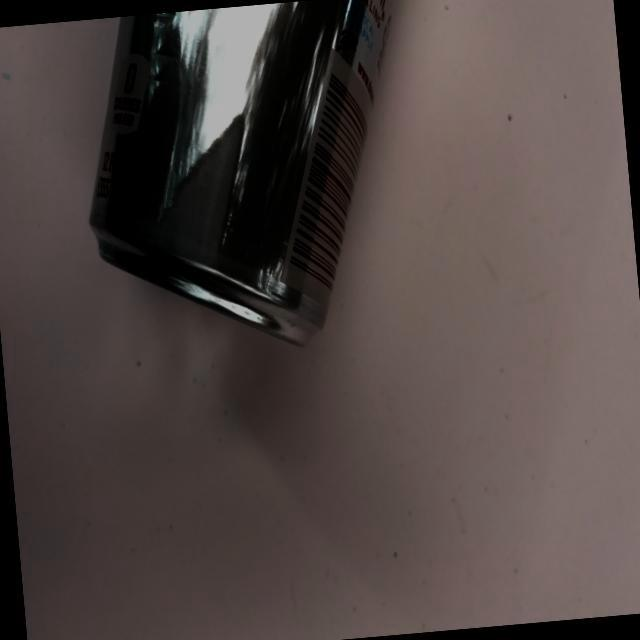metal: (61, 0, 458, 370)
